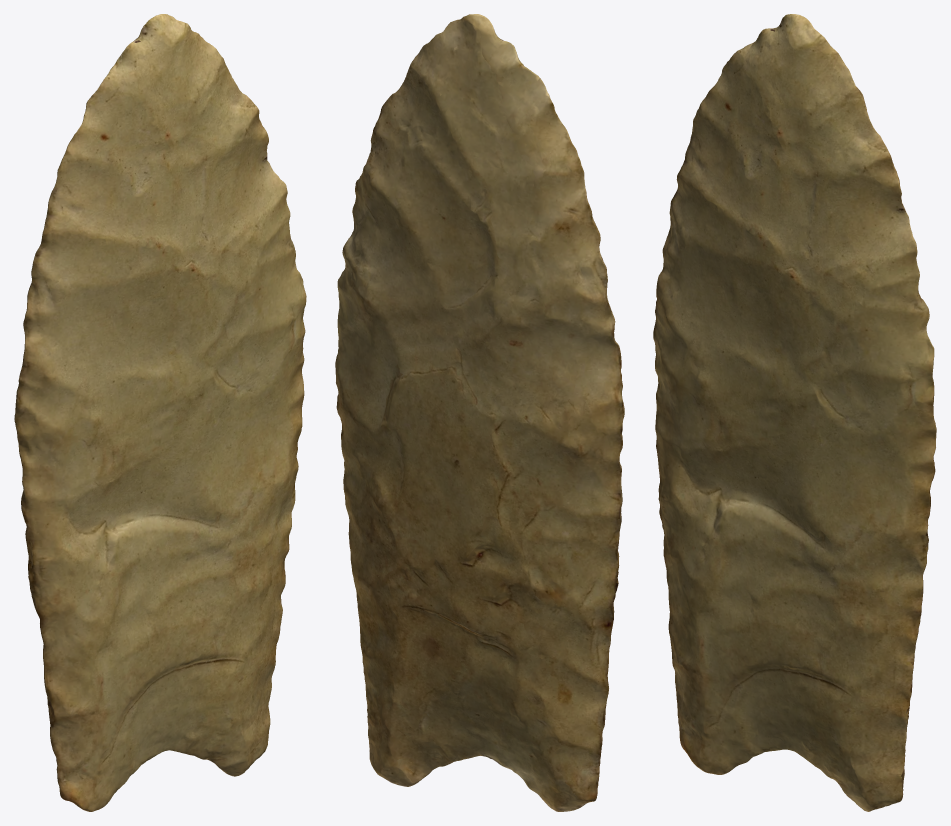
File: medium.glb
3 renders of one model, left to right at view 1: azimuth 30°, elevation 25°; view 2: azimuth 150°, elevation 25°; view 3: azimuth 330°, elevation 25°, orthographic. The views are drawn at different scales.
Visible parts, largest first — view 1: Object_2; view 2: Object_2; view 3: Object_2.
Part boxes in pixels (x1,y1,x2,y2): Object_2: [14, 14, 306, 811]; Object_2: [335, 14, 624, 811]; Object_2: [653, 14, 936, 811].
Bounding box in the file's own units: 0.0326 × 0.0847 × 0.00723.
1 material, 1 textured.
